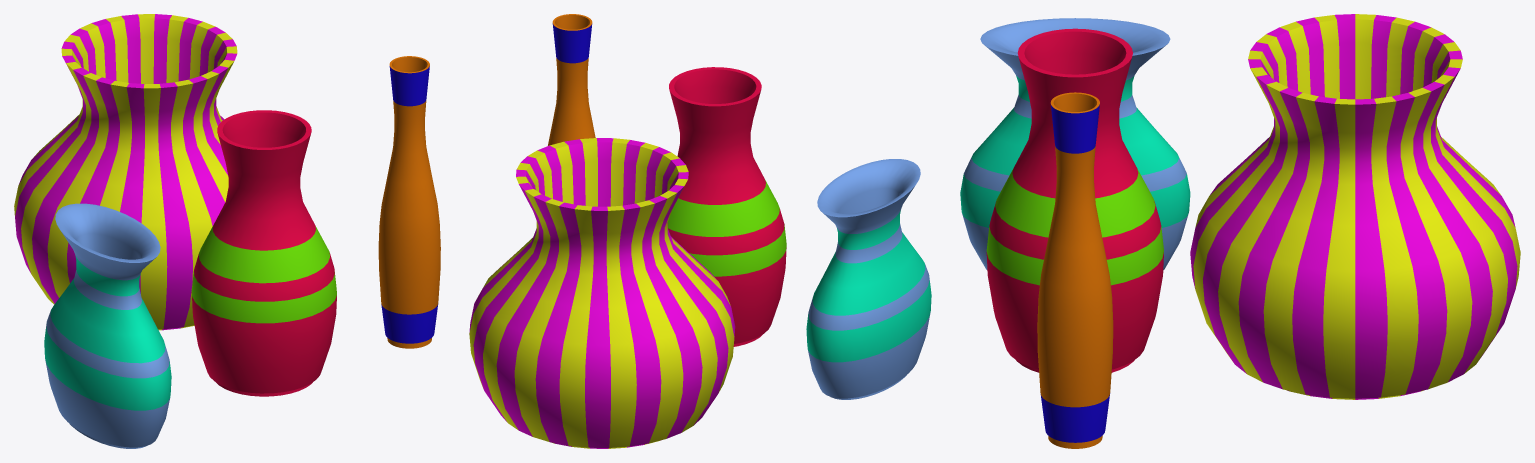
The model's file is Vases.fbx.
3 renders of one model, left to right at view 1: azimuth 30°, elevation 25°; view 2: azimuth 150°, elevation 25°; view 3: azimuth 270°, elevation 25°, orthographic. The views are drawn at different scales.
Parts seen in each view (by area): view 1: Cylinder.001, Cylinder, Cylinder.003, Cylinder.002; view 2: Cylinder.001, Cylinder.003, Cylinder, Cylinder.002; view 3: Cylinder.001, Cylinder, Cylinder.002, Cylinder.003.
Boxes of the visible parts, box(x1,y1,x2,y2) form: Cylinder.001: box(14, 14, 237, 330); Cylinder: box(191, 110, 336, 396); Cylinder.003: box(44, 203, 171, 448); Cylinder.002: box(378, 56, 440, 348); Cylinder.001: box(469, 138, 735, 448); Cylinder.003: box(806, 159, 931, 399); Cylinder: box(668, 67, 786, 346); Cylinder.002: box(548, 14, 595, 145); Cylinder.001: box(1190, 14, 1520, 399); Cylinder: box(986, 28, 1163, 372); Cylinder.002: box(1037, 92, 1113, 448); Cylinder.003: box(960, 18, 1190, 269).
Bounding box in the file's own units: 1365 × 1000 × 1463.
